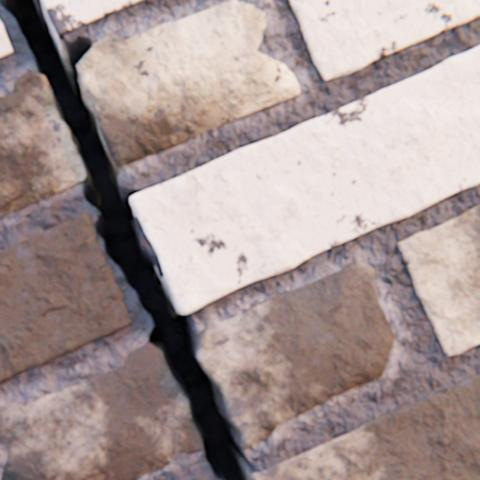brick: (130, 46, 479, 314), (246, 374, 479, 479), (0, 212, 132, 383), (287, 0, 479, 81), (396, 205, 479, 356), (41, 0, 144, 51), (0, 21, 13, 59)
broken_brick: (193, 261, 394, 448), (77, 0, 299, 168), (0, 342, 202, 479), (0, 73, 86, 216)
crack: (0, 0, 250, 479)
